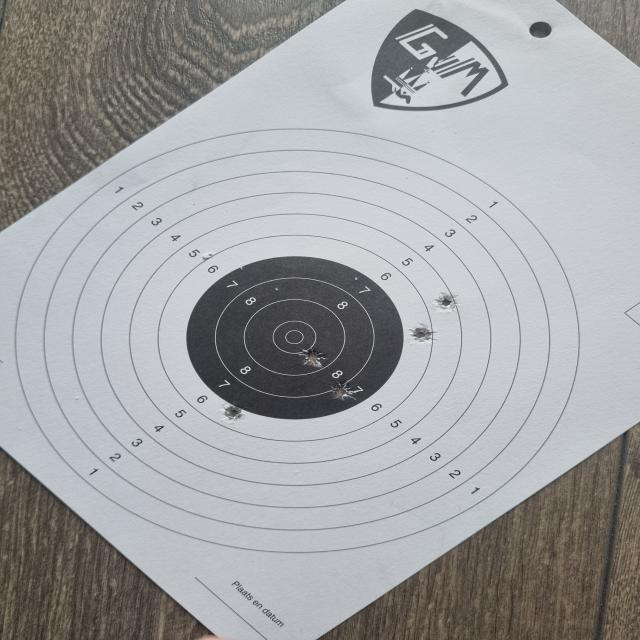10: (300, 350, 324, 371)
5: (433, 292, 461, 312)
6: (411, 324, 436, 343)
7: (221, 404, 248, 423)
8: (330, 382, 360, 404)
Target: (11, 126, 586, 554)
black_contour: (191, 255, 402, 420)
